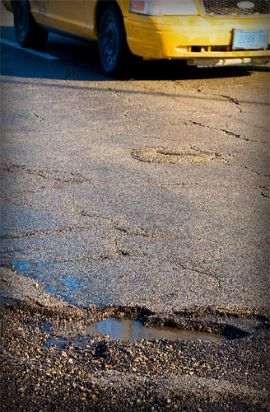pothole: (85, 295, 248, 348)
